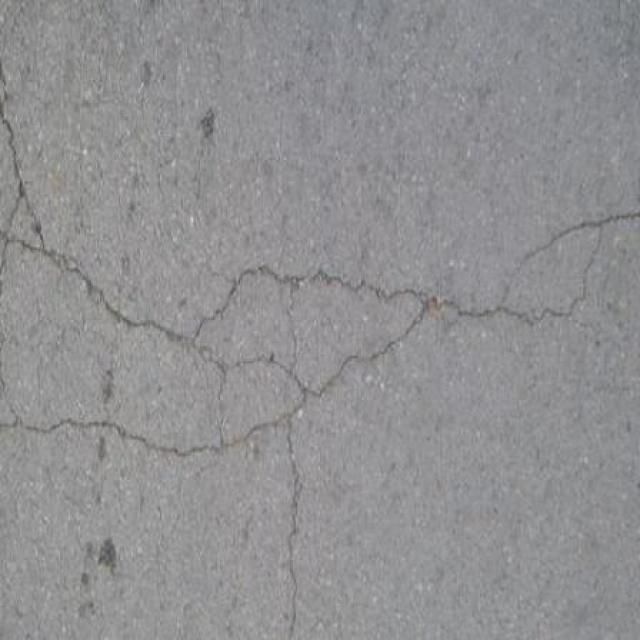Crack: (1, 180, 640, 453), (242, 265, 452, 373), (0, 379, 181, 453), (285, 411, 302, 639), (0, 88, 21, 182), (299, 382, 332, 398), (16, 190, 24, 209), (8, 210, 14, 228)
